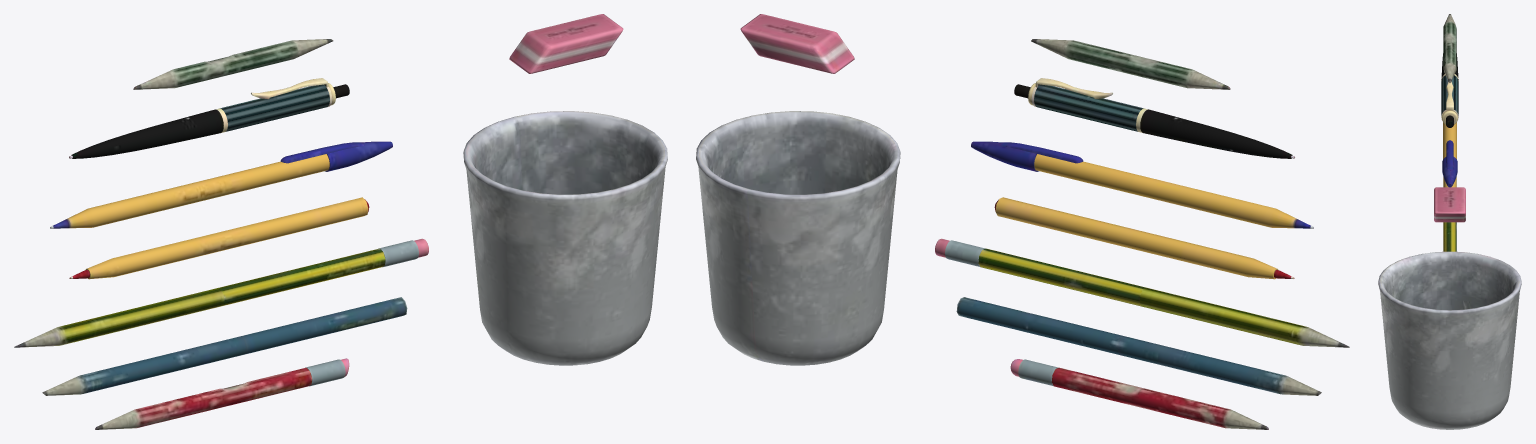
Rendered from stationery.glb.
3 renders of one model, left to right at view 1: azimuth 30°, elevation 25°; view 2: azimuth 150°, elevation 25°; view 3: azimuth 270°, elevation 25°, orthographic. The views are drawn at different scales.
Parts seen in each view (by area): view 1: stationery_supplies_pencilcup, stationery_supplies_pencil_new_a, stationery_supplies_pencil_new_b, stationery_supplies_pen_blue, stationery_supplies_pen_fancy, stationery_supplies_pen_red, stationery_supplies_pencil_used, stationery_supplies_eraser, stationery_supplies_pencil_old; view 2: stationery_supplies_pencilcup, stationery_supplies_pencil_new_a, stationery_supplies_pencil_new_b, stationery_supplies_pen_blue, stationery_supplies_pen_fancy, stationery_supplies_pen_red, stationery_supplies_pencil_used, stationery_supplies_eraser, stationery_supplies_pencil_old; view 3: stationery_supplies_pencilcup, stationery_supplies_eraser, stationery_supplies_pen_fancy, stationery_supplies_pen_blue, stationery_supplies_pencil_old, stationery_supplies_pencil_new_a.
Boxes of the visible parts, x1,y1,x2,y2 form: stationery_supplies_pencilcup: (463, 111, 667, 365); stationery_supplies_pencil_new_a: (14, 238, 428, 347); stationery_supplies_pencil_new_b: (42, 297, 407, 395); stationery_supplies_pen_blue: (50, 141, 392, 228); stationery_supplies_pen_fancy: (69, 78, 349, 158); stationery_supplies_pen_red: (69, 197, 369, 279); stationery_supplies_pencil_used: (95, 358, 349, 429); stationery_supplies_eraser: (509, 14, 623, 73); stationery_supplies_pencil_old: (133, 39, 333, 89); stationery_supplies_pencilcup: (696, 111, 900, 365); stationery_supplies_pencil_new_a: (935, 238, 1349, 347); stationery_supplies_pencil_new_b: (956, 297, 1321, 395); stationery_supplies_pen_blue: (971, 141, 1313, 228); stationery_supplies_pen_fancy: (1014, 78, 1294, 158); stationery_supplies_pen_red: (994, 197, 1294, 279); stationery_supplies_pencil_used: (1010, 359, 1268, 429); stationery_supplies_eraser: (740, 14, 854, 73); stationery_supplies_pencil_old: (1031, 39, 1230, 89); stationery_supplies_pencilcup: (1378, 251, 1521, 429); stationery_supplies_eraser: (1434, 187, 1465, 222); stationery_supplies_pen_fancy: (1441, 53, 1458, 127); stationery_supplies_pen_blue: (1442, 122, 1457, 187); stationery_supplies_pencil_old: (1443, 14, 1456, 82); stationery_supplies_pencil_new_a: (1443, 222, 1456, 251).
Bounding box in the file's own units: 0.3019 × 0.1643 × 0.0837.
1 material, 1 textured.
